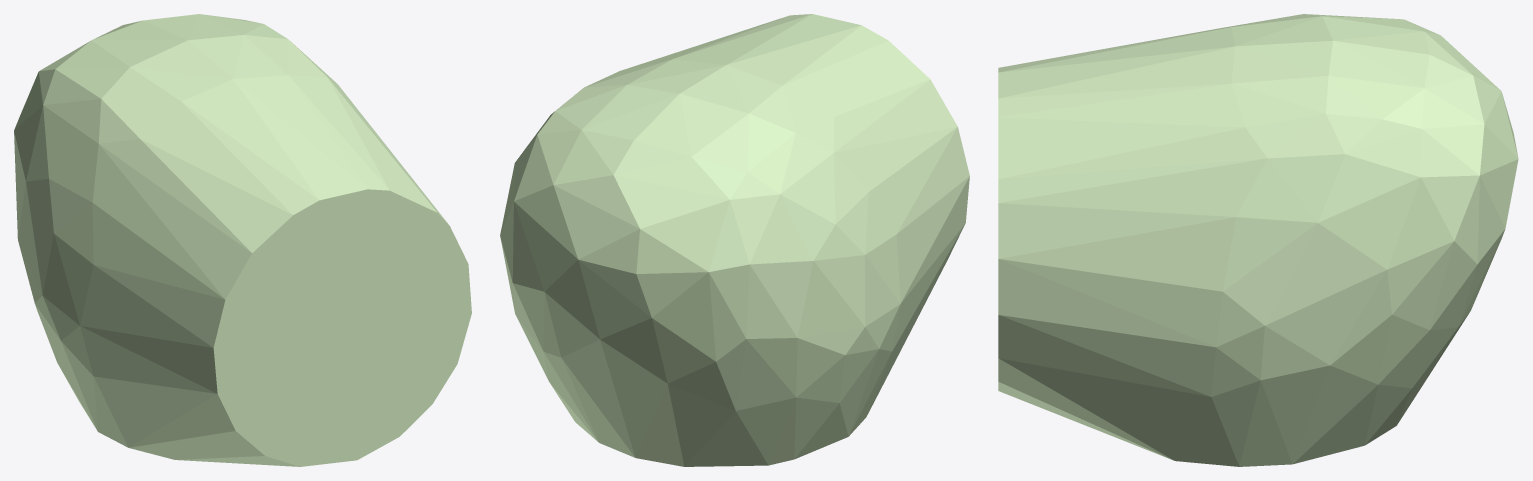
The model's file is iiwa_link7_resp_coll_1.obj.
The picture shows the model from 3 angles, left to right: view 1: azimuth 30°, elevation 25°; view 2: azimuth 150°, elevation 25°; view 3: azimuth 270°, elevation 25°; orthographic projection. The views are drawn at different scales.
Parts seen in each view (by area): view 1: node; view 2: node; view 3: node.
Boxes of the visible parts, x1,y1,x2,y2 form: node: [14, 14, 471, 466]; node: [500, 14, 969, 466]; node: [998, 14, 1518, 466].
Bounding box in the file's own units: 0.132 × 0.1277 × 0.1675.
